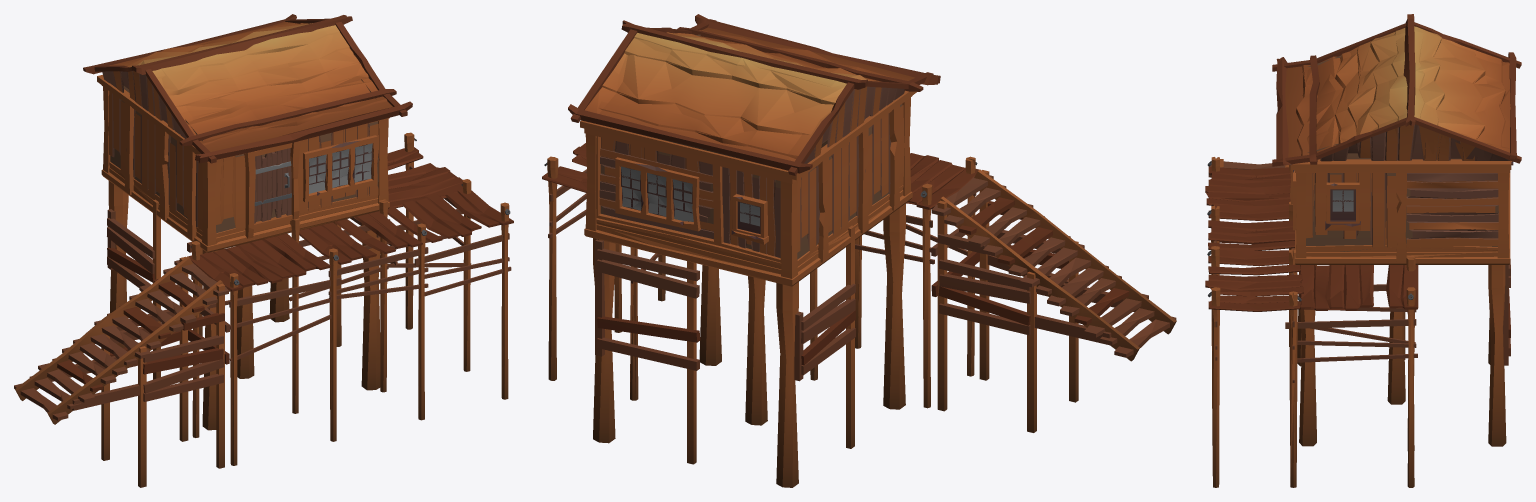
Rendered from Shanty Preset 07.fbx.
3 renders of one model, left to right at view 1: azimuth 30°, elevation 25°; view 2: azimuth 150°, elevation 25°; view 3: azimuth 270°, elevation 25°, orthographic. The views are drawn at different scales.
Parts seen in each view (by area): view 1: Shanty Preset 07 high, Shanty Preset 07 low, Shanty Preset 07; view 2: Shanty Preset 07 high, Shanty Preset 07 low, Shanty Preset 07; view 3: Shanty Preset 07 high, Shanty Preset 07 low, Shanty Preset 07.
Part boxes in pixels (box(x1,y1,x2,y2)): Shanty Preset 07 high: box(14, 14, 513, 487); Shanty Preset 07 low: box(35, 21, 506, 462); Shanty Preset 07: box(102, 16, 509, 286); Shanty Preset 07 high: box(542, 14, 1176, 487); Shanty Preset 07 low: box(578, 27, 1175, 393); Shanty Preset 07: box(558, 21, 965, 279); Shanty Preset 07 high: box(1205, 14, 1521, 487); Shanty Preset 07 low: box(1205, 26, 1510, 484); Shanty Preset 07: box(1205, 32, 1513, 310).
Bounding box in the file's own units: 12.66 × 8.59 × 7.35.
Materials: 1 (1 with a texture image).
